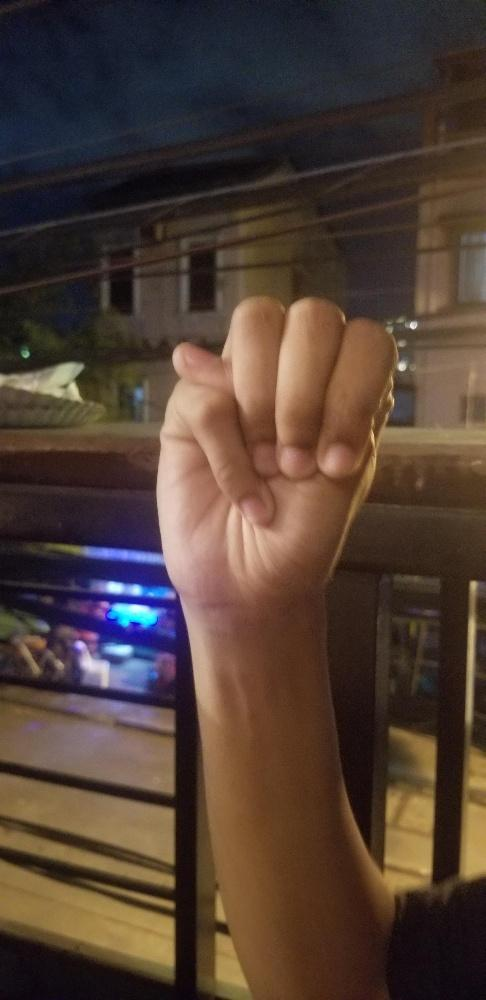m: (153, 292, 401, 608)
